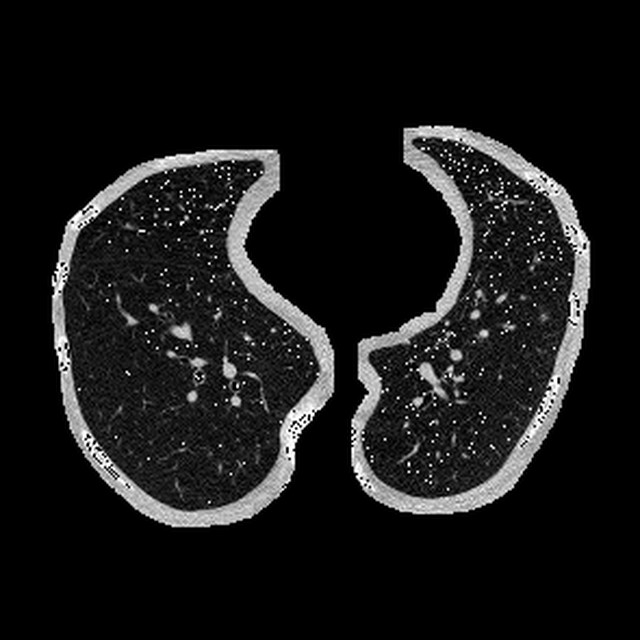PN: (538, 312, 547, 321)
